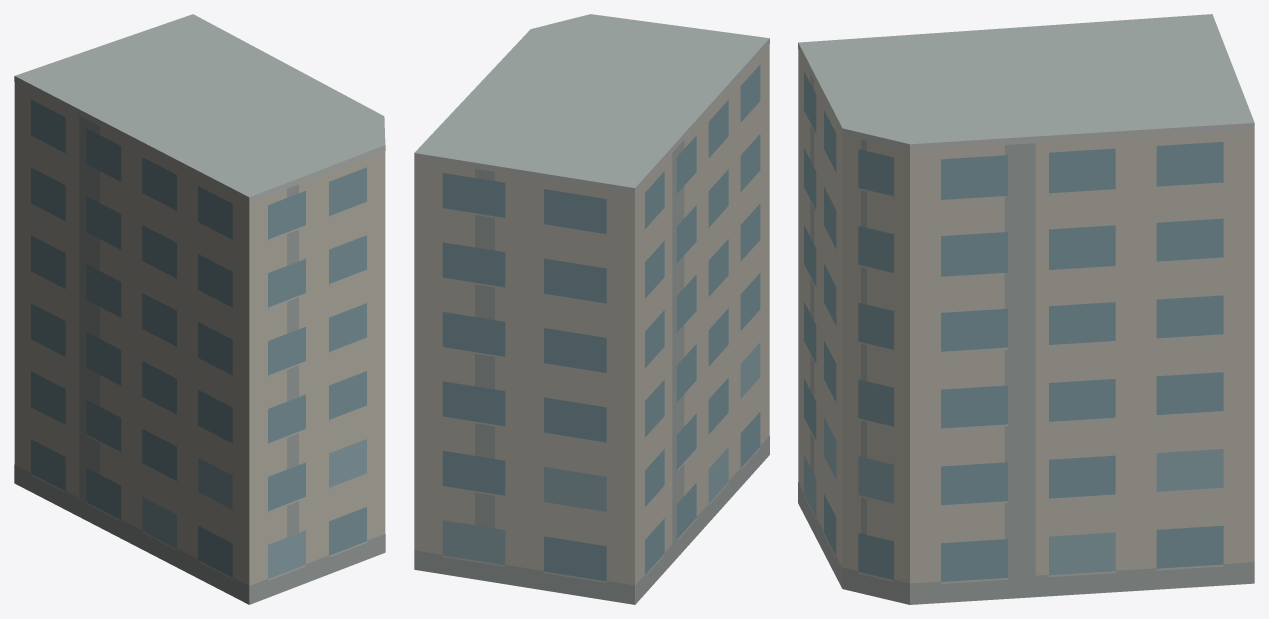
File: survey-upis-32801973.glb
3 views of the same model, side by side, from view 1: azimuth 30°, elevation 25°; view 2: azimuth 150°, elevation 25°; view 3: azimuth 270°, elevation 25° (orthographic). The views are drawn at different scales.
Parts seen in each view (by area): view 1: survey-upis-32801973.tmp; view 2: survey-upis-32801973.tmp; view 3: survey-upis-32801973.tmp.
Part boxes in pixels (<box>): survey-upis-32801973.tmp: <box>14,14,385,604</box>; survey-upis-32801973.tmp: <box>414,14,769,604</box>; survey-upis-32801973.tmp: <box>798,14,1254,604</box>.
Size of the model in its own units: 10.07 by 16.6 by 14.92.
